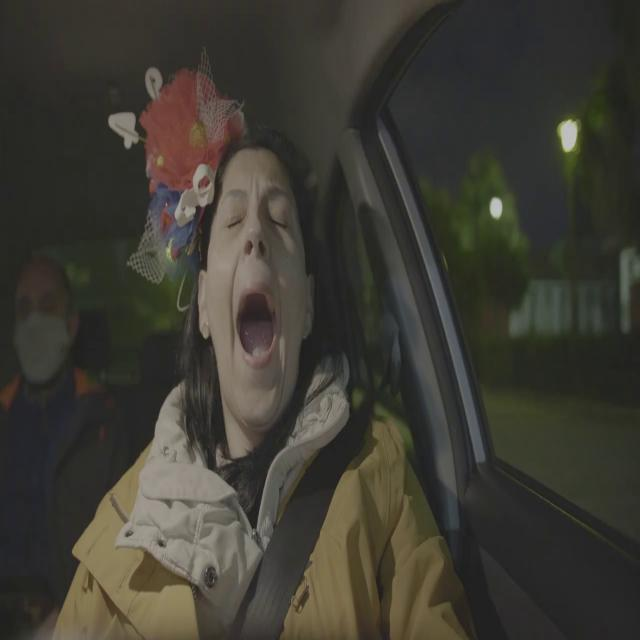open-mouth: (234, 278, 280, 376)
